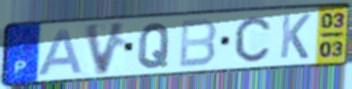A: (35, 27, 85, 78)
B: (177, 17, 219, 69)
C: (233, 15, 273, 64)
K: (277, 13, 313, 61)
Q: (136, 21, 173, 71)
V: (82, 20, 130, 78)
